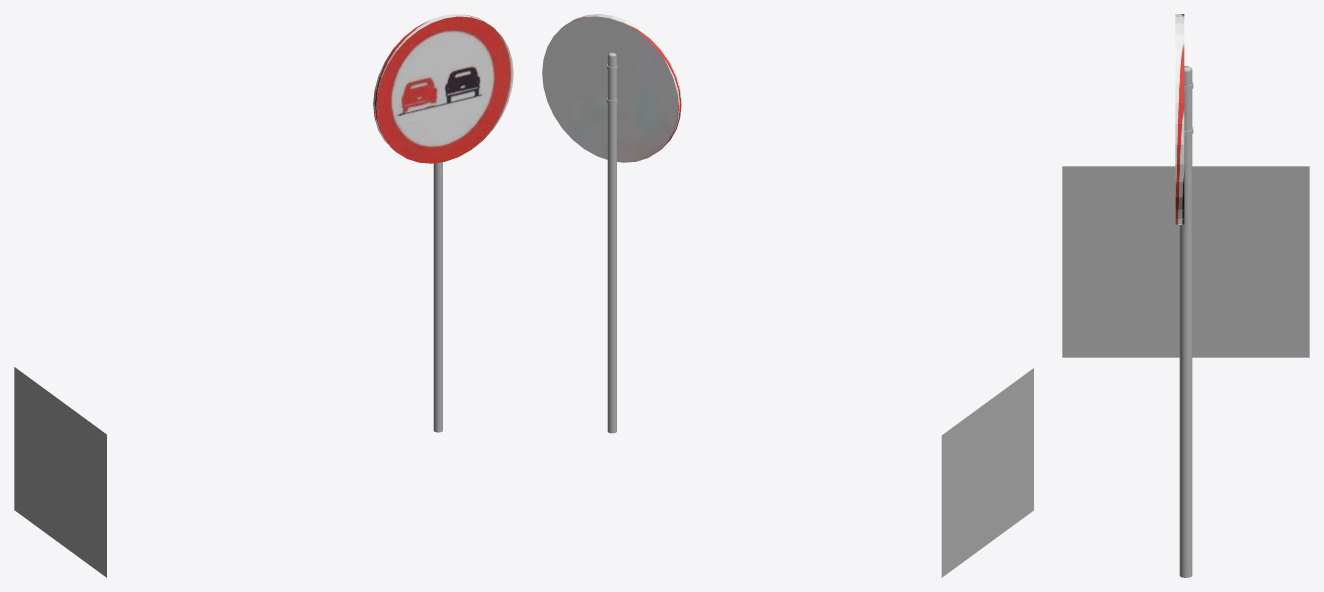
The picture shows the model from 3 angles, left to right: view 1: azimuth 30°, elevation 25°; view 2: azimuth 150°, elevation 25°; view 3: azimuth 270°, elevation 25°; orthographic projection. The views are drawn at different scales.
Visible parts, largest first — view 1: Cylinder.040, وقفففففففففففف, Pole.039; view 2: Cylinder.040, وقفففففففففففف, Pole.039; view 3: وقفففففففففففف, Pole.039, Cylinder.040.
Part boxes in pixels (bbox=[...]): Cylinder.040: bbox=[373, 14, 513, 163]; وقفففففففففففف: bbox=[14, 367, 106, 577]; Pole.039: bbox=[433, 162, 442, 432]; Cylinder.040: bbox=[542, 14, 681, 162]; وقفففففففففففف: bbox=[941, 368, 1033, 577]; Pole.039: bbox=[607, 52, 616, 433]; وقفففففففففففف: bbox=[1062, 166, 1309, 357]; Pole.039: bbox=[1179, 66, 1192, 577]; Cylinder.040: bbox=[1175, 14, 1184, 224].
Bounding box in the file's own units: 328 × 304 × 117.
